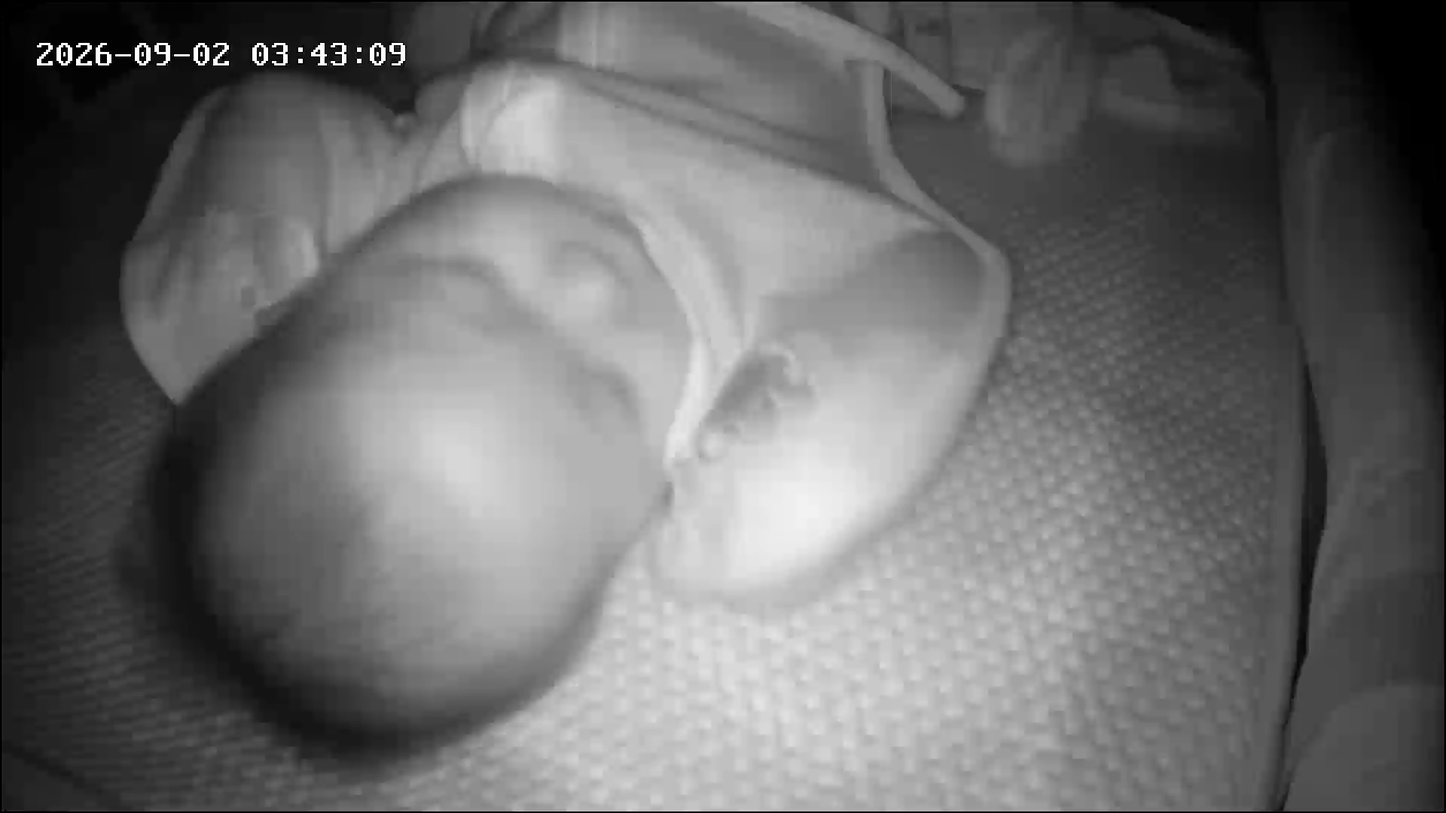baby: (106, 2, 1017, 766)
baby_face: (146, 170, 709, 743)
